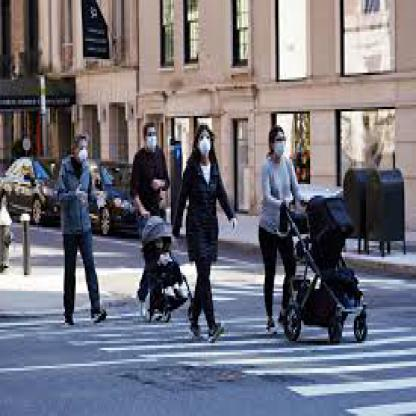Wearing_Mask: (266, 121, 289, 164), (141, 122, 162, 154), (195, 125, 213, 159), (74, 132, 89, 164)
